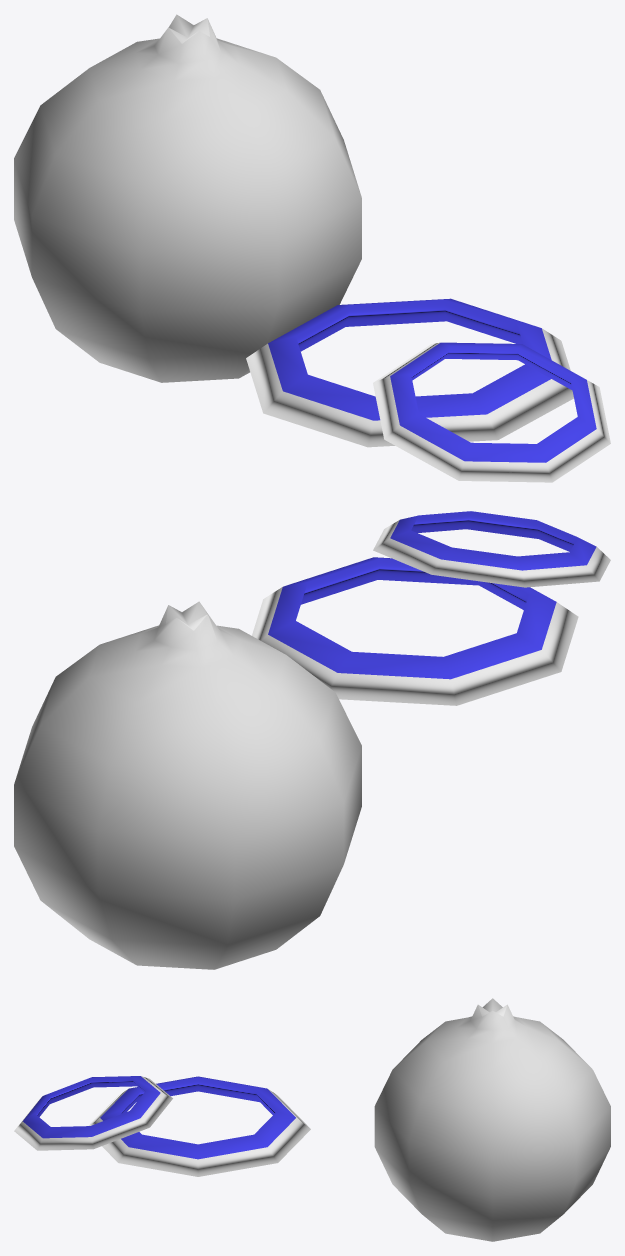
The model's file is Onion.fbx.
3 views of the same model, one above another, from view 1: azimuth 30°, elevation 25°; view 2: azimuth 150°, elevation 25°; view 3: azimuth 270°, elevation 25° (orthographic). The views are drawn at different scales.
Parts seen in each view (by area): view 1: Sphere, Cube, Cube.001; view 2: Sphere, Cube, Cube.001; view 3: Sphere, Cube, Cube.001.
Part boxes in pixels (left/top/right/bottom): Sphere: left=14, top=14, right=361, bottom=382; Cube: left=246, top=298, right=573, bottom=447; Cube.001: left=373, top=342, right=610, bottom=482; Sphere: left=14, top=601, right=361, bottom=969; Cube: left=252, top=557, right=578, bottom=705; Cube.001: left=373, top=511, right=610, bottom=587; Sphere: left=374, top=998, right=610, bottom=1241; Cube: left=89, top=1076, right=310, bottom=1176; Cube.001: left=14, top=1076, right=172, bottom=1150.
Size of the model in its own units: 24.08 by 25.51 by 60.8.
